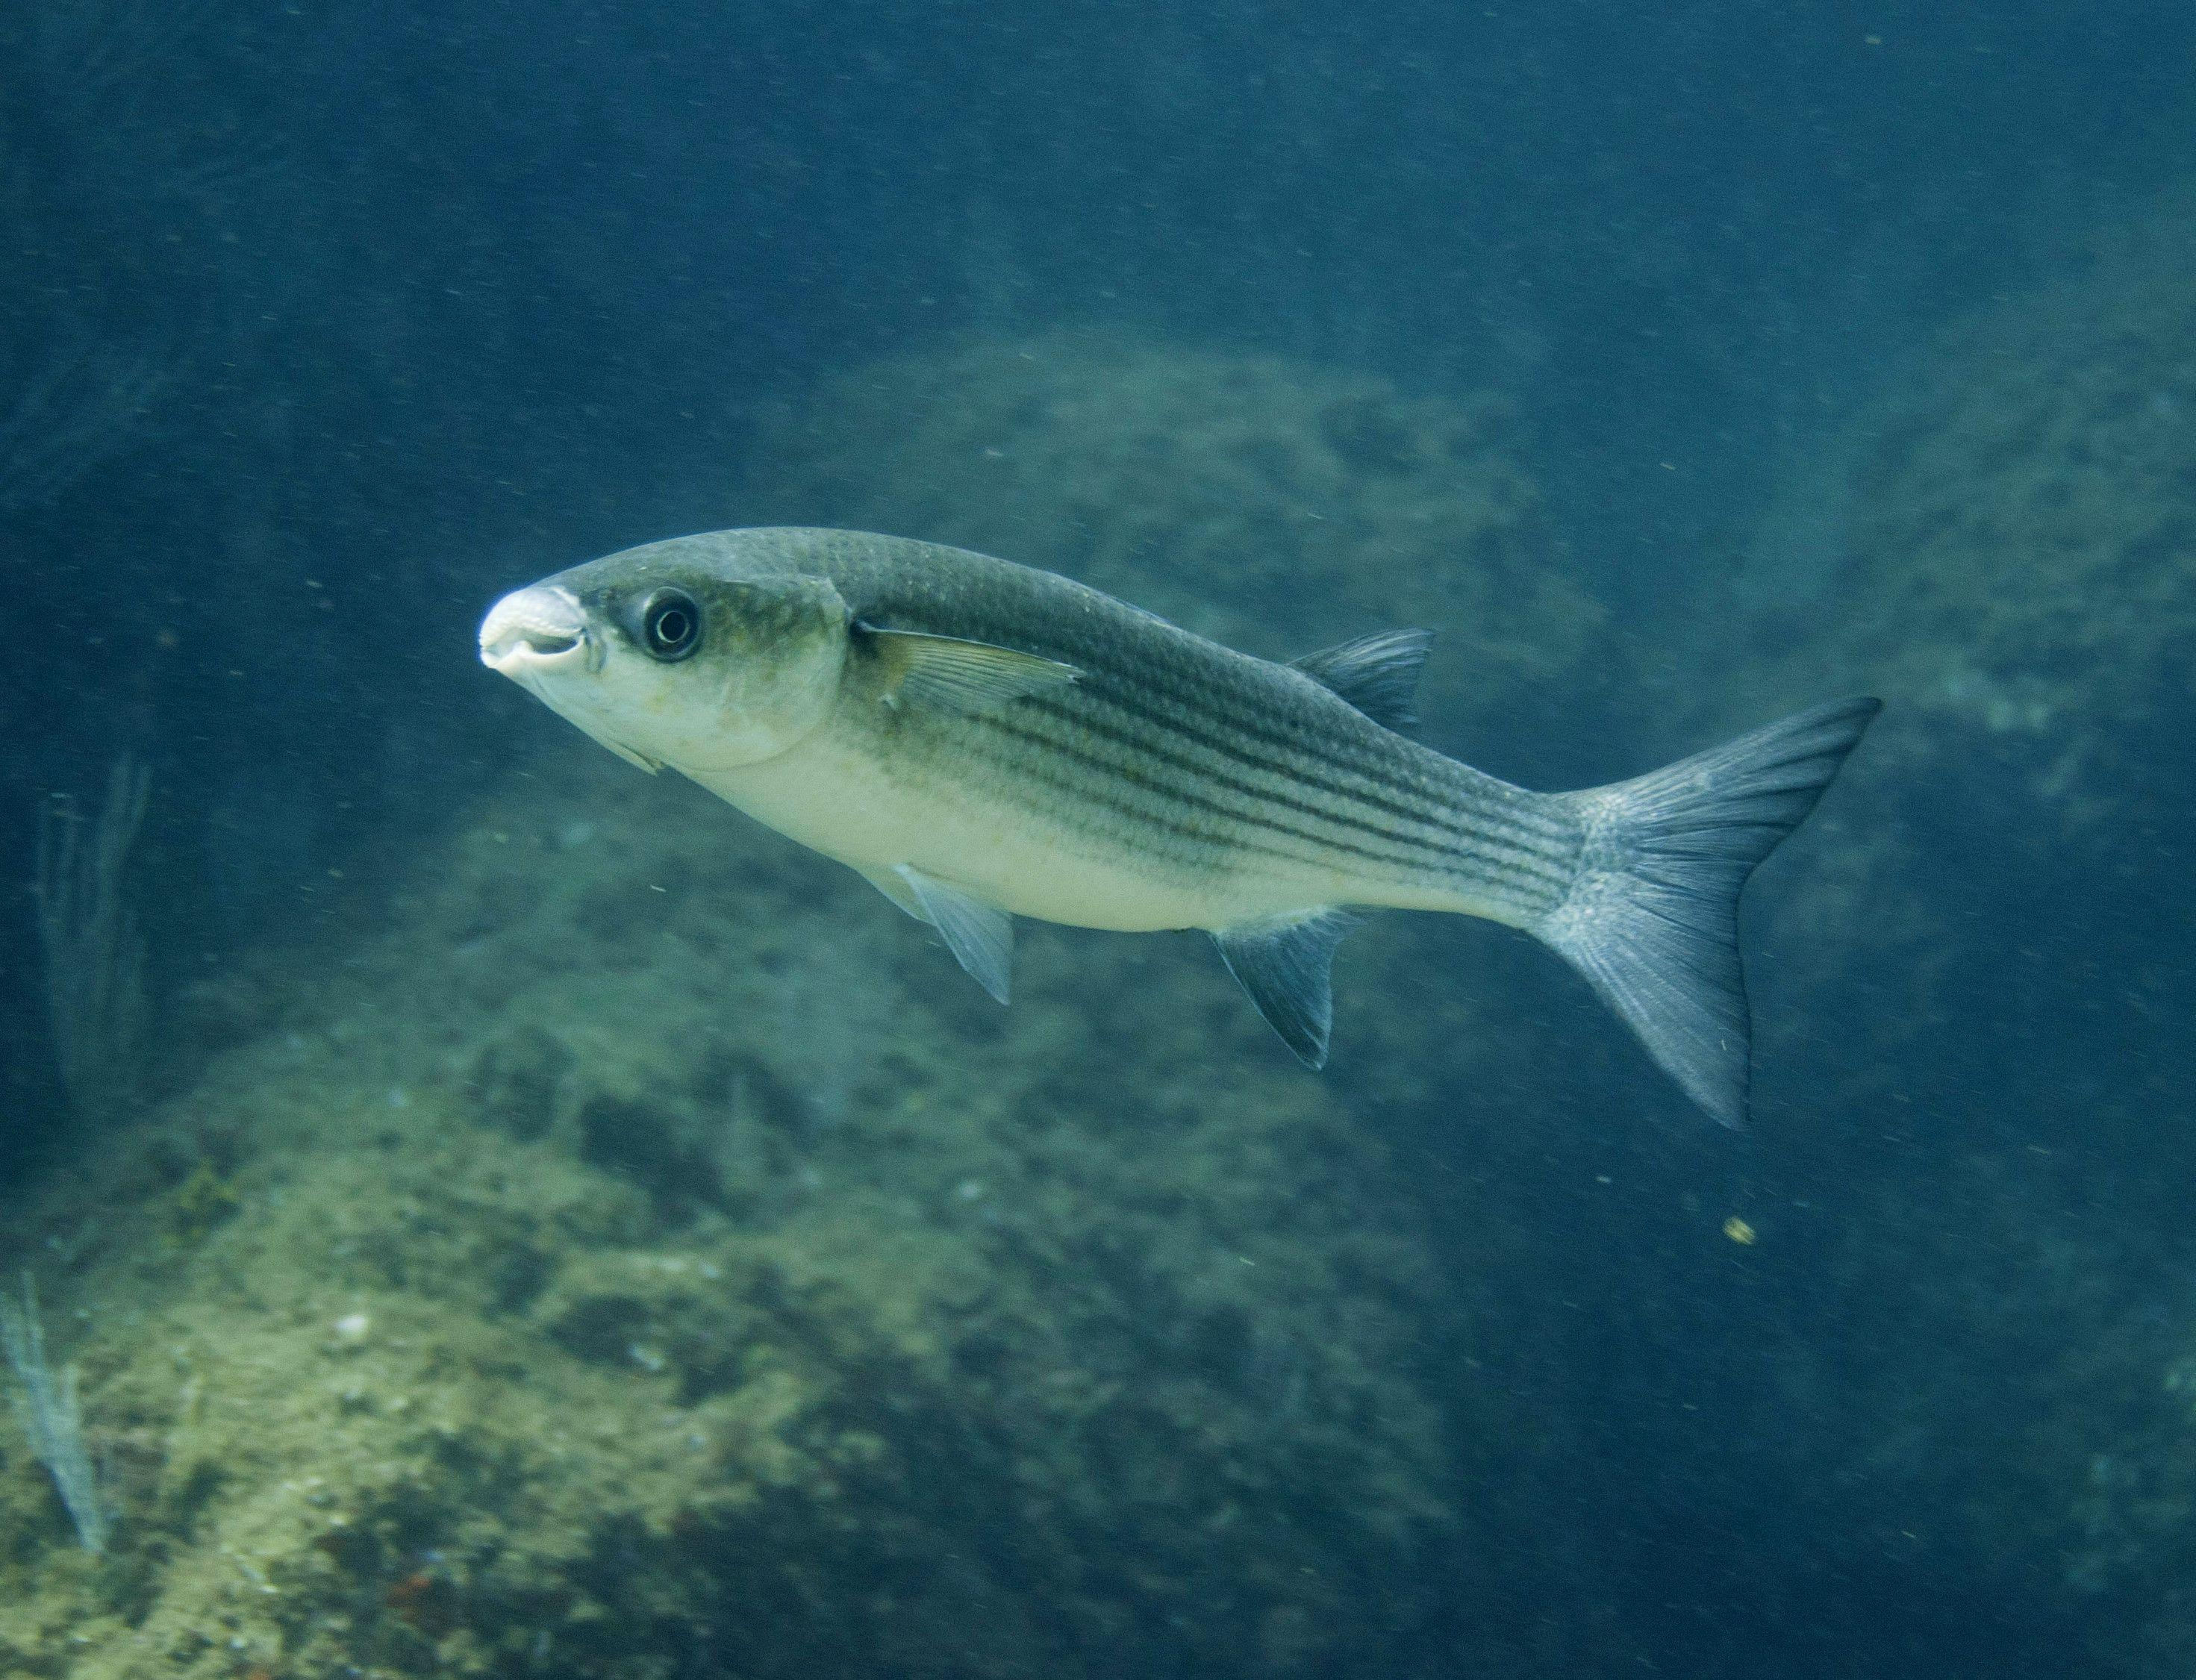Mullet: (478, 519, 1896, 1175)
